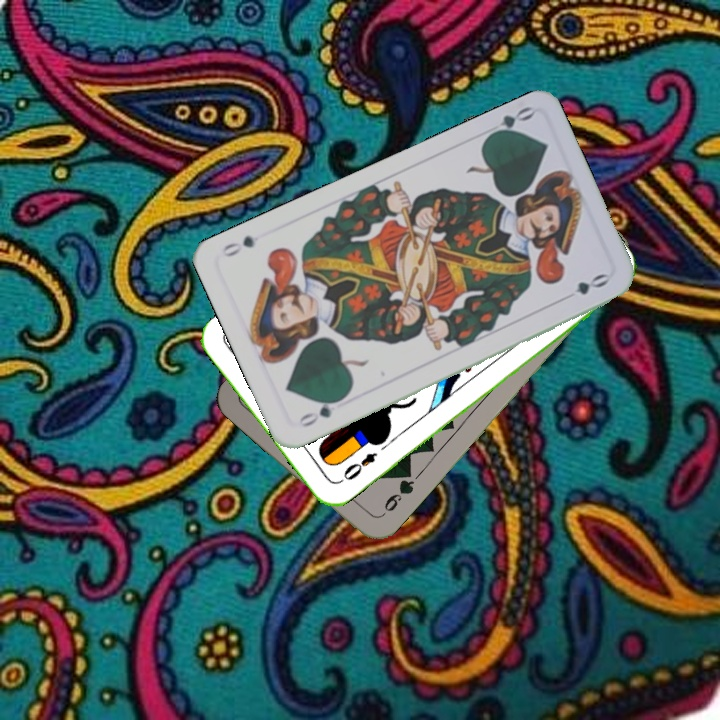EO: (335, 448, 380, 486)
G9: (380, 468, 417, 515)
GO: (482, 102, 536, 141), (294, 394, 347, 430)
